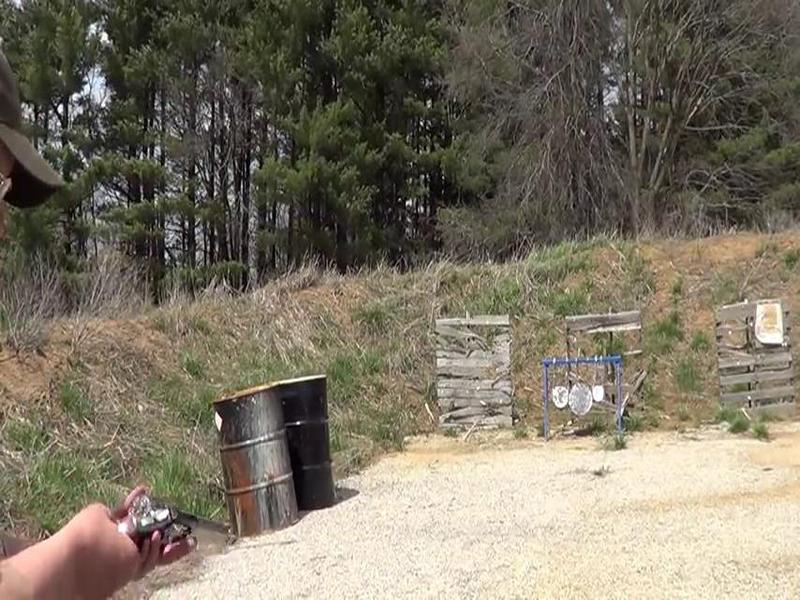Revolver: (100, 486, 264, 597)
